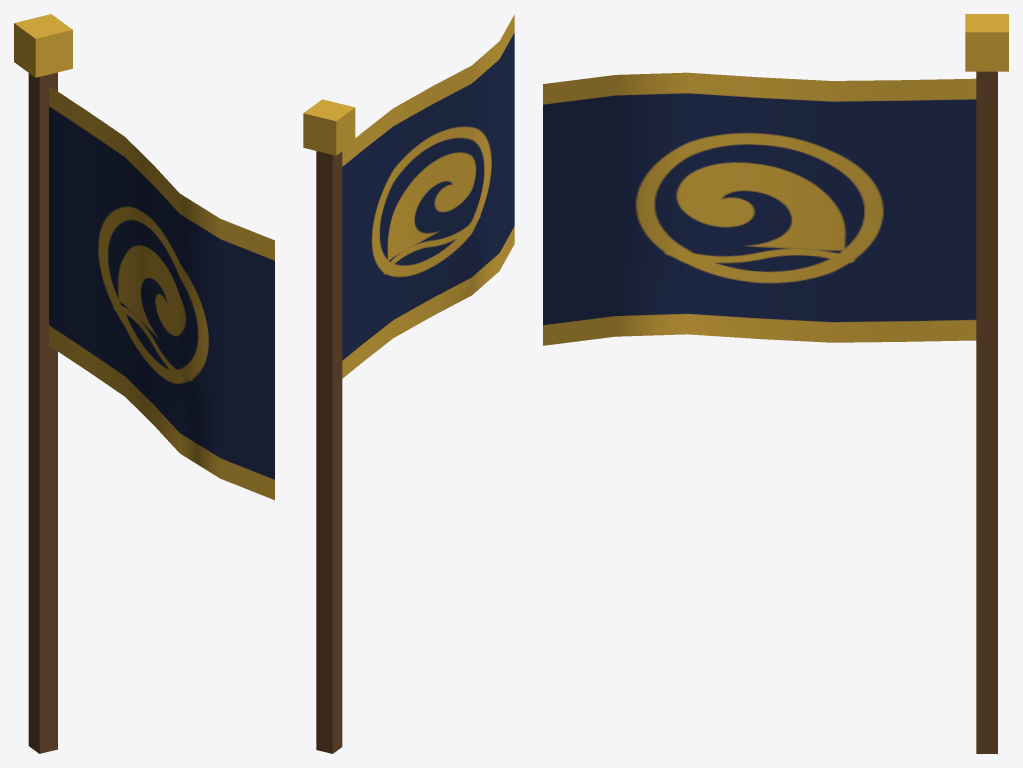
The model's file is flag.glb.
The picture shows the model from 3 angles, left to right: view 1: azimuth 30°, elevation 25°; view 2: azimuth 150°, elevation 25°; view 3: azimuth 270°, elevation 25°; orthographic projection. The views are drawn at different scales.
Visible parts, largest first — view 1: flag; view 2: flag; view 3: flag.
Part boxes in pixels (x1,y1,x2,y2): flag: [14, 14, 274, 753]; flag: [303, 14, 514, 753]; flag: [543, 14, 1008, 753].
Size of the model in its own units: 0.2401 by 4.44 by 2.58.
Materials: 3 (1 with a texture image).
